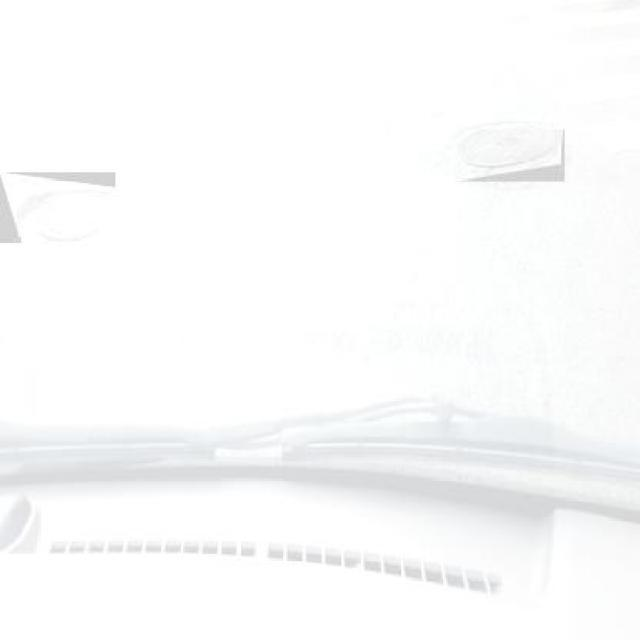Manhole: (0, 172, 115, 243), (458, 129, 566, 182)
